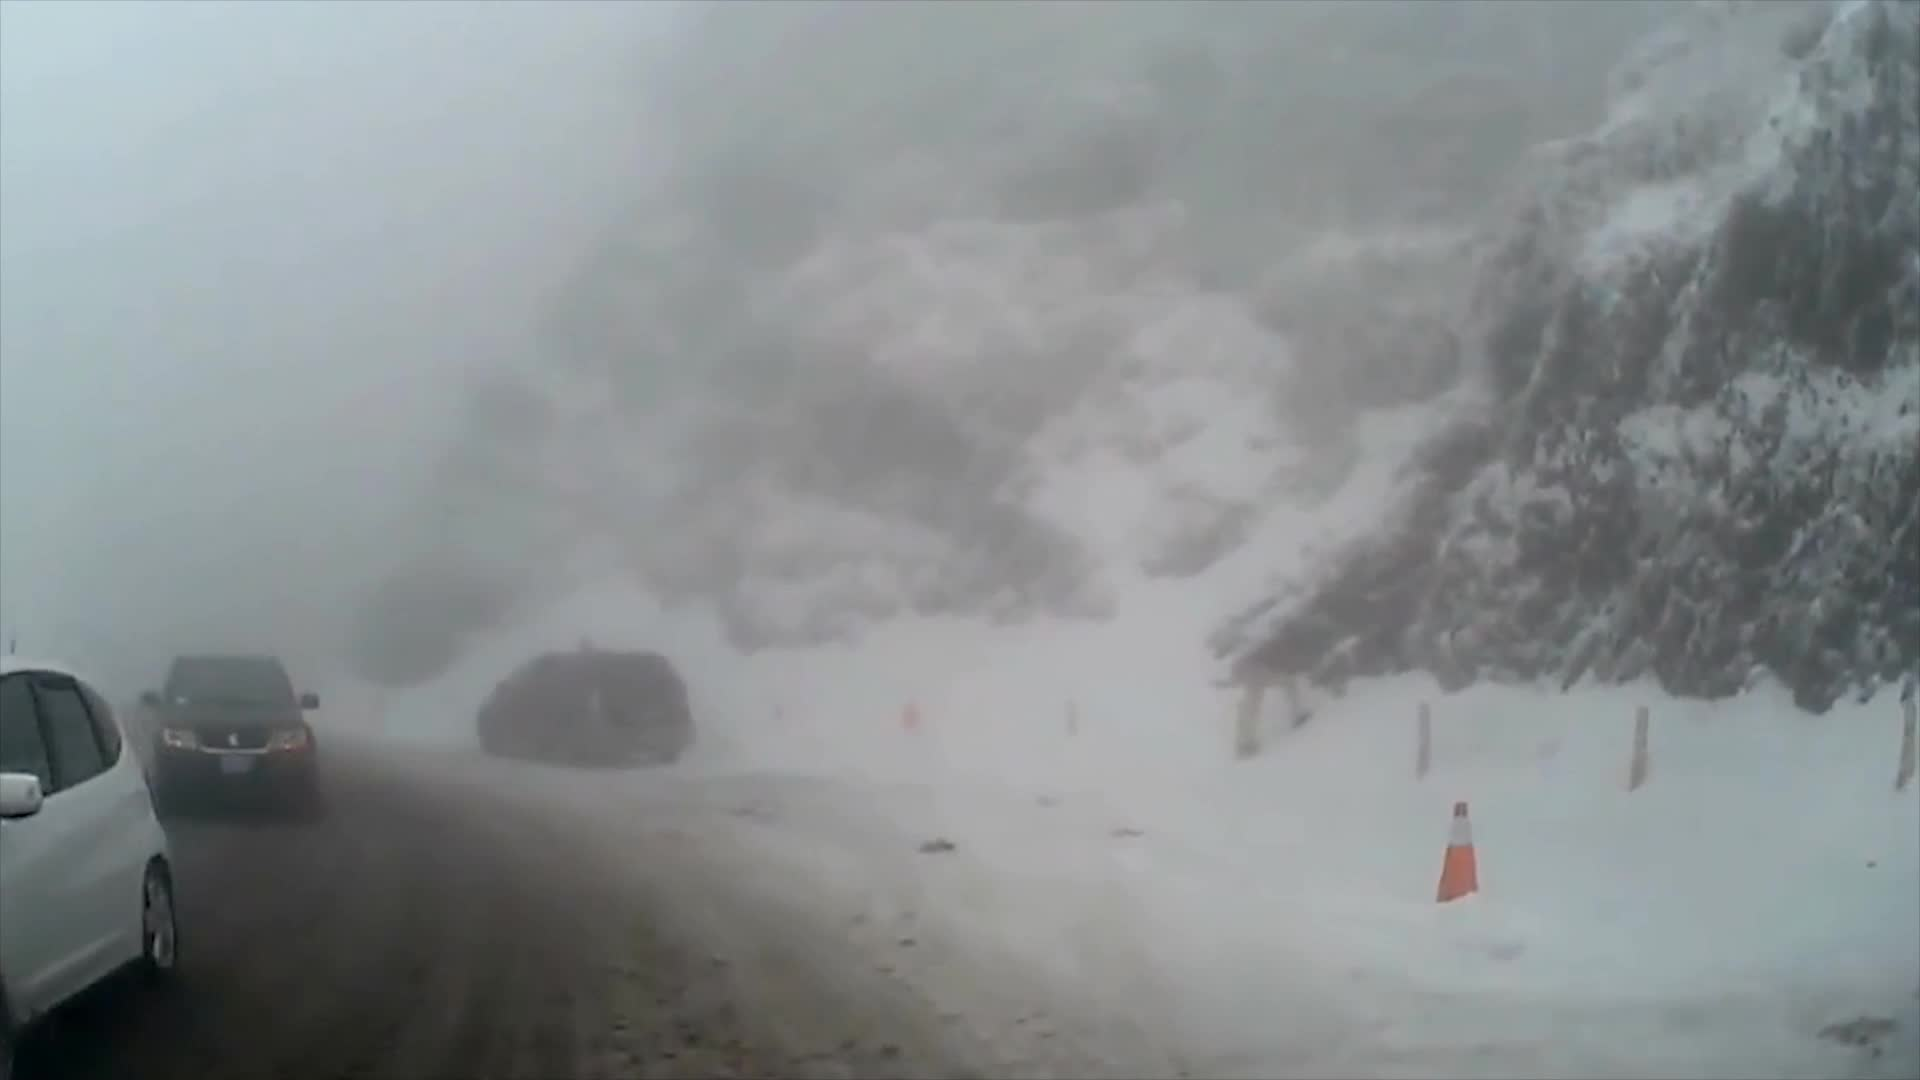vehicle: (0, 655, 177, 1068), (135, 647, 322, 819), (469, 632, 684, 753)
